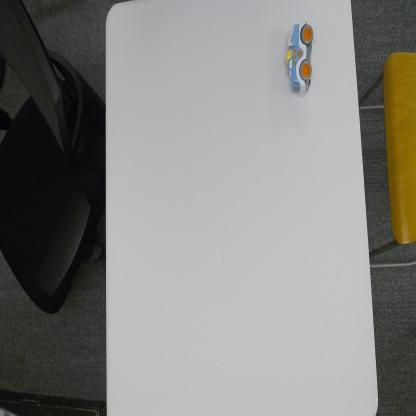Car: (284, 18, 315, 98)
